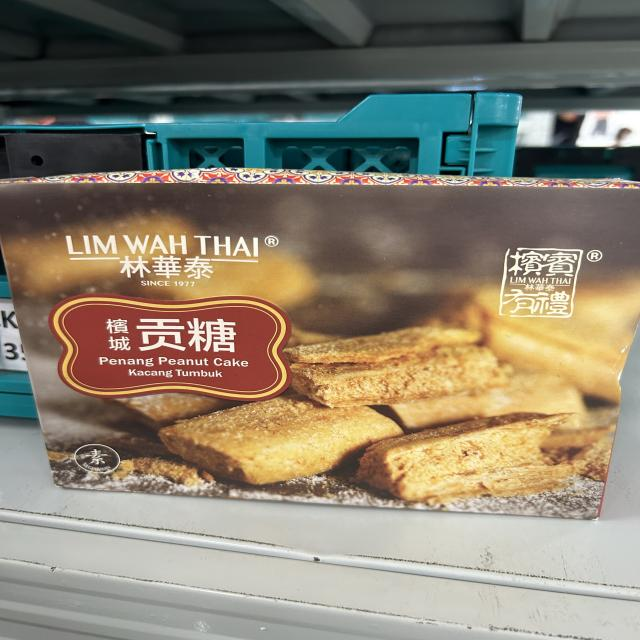object_name: (13, 184, 631, 515)
